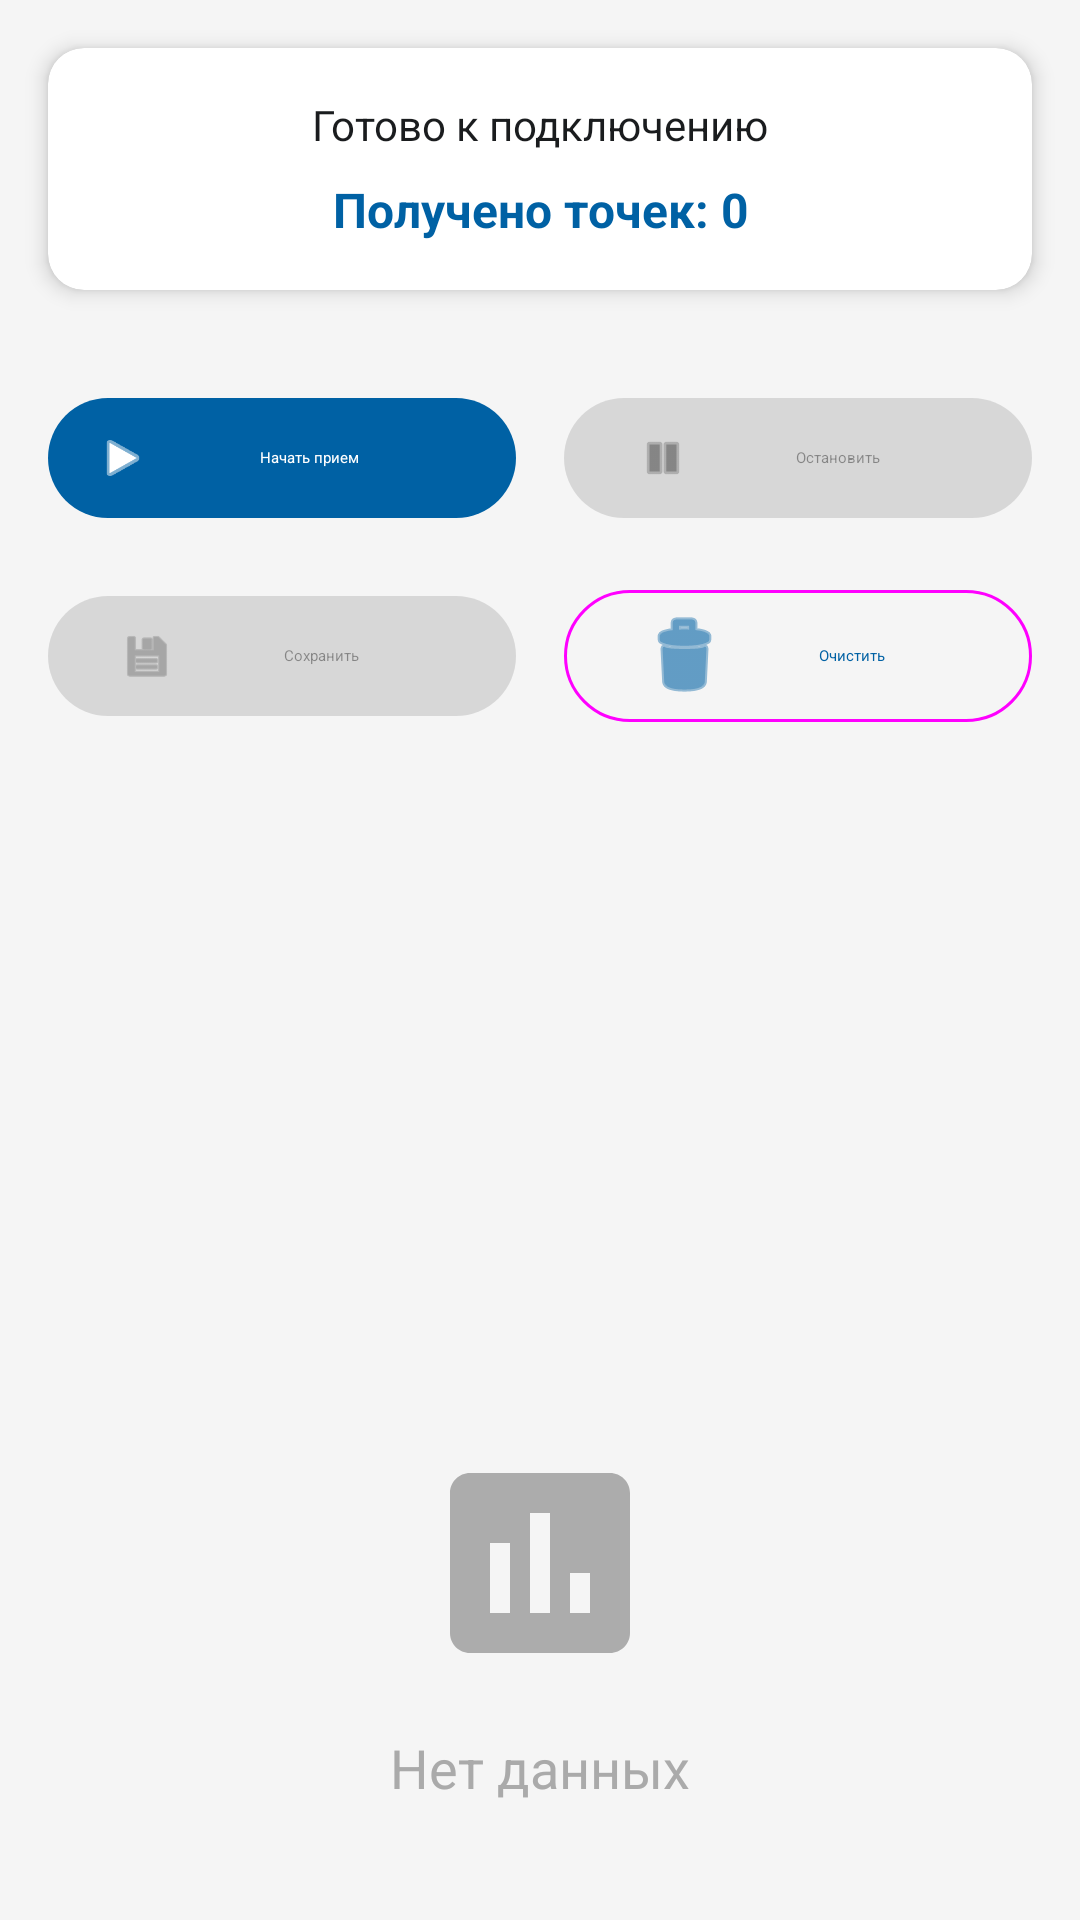

Named icons in this screenshot (1080px×1920px) and their bounding boxes, (x1, y1, x2, y2):
data: (450, 1473, 630, 1653)
